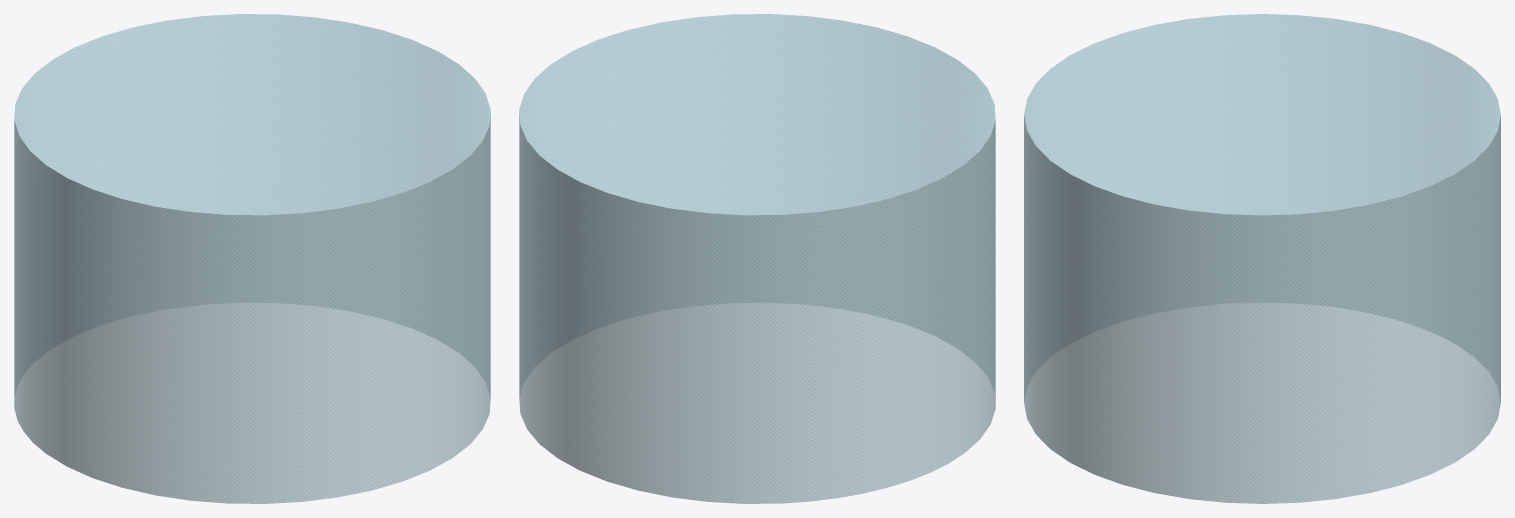
The model's file is body_5.obj.
The picture shows the model from 3 angles, left to right: view 1: azimuth 30°, elevation 25°; view 2: azimuth 150°, elevation 25°; view 3: azimuth 270°, elevation 25°; orthographic projection.
Visible parts, largest first — view 1: mesh4/mesh4-geometry#mesh4-geometry; view 2: mesh4/mesh4-geometry#mesh4-geometry; view 3: mesh4/mesh4-geometry#mesh4-geometry.
Part boxes in pixels (box(x1,y1,x2,y2)): mesh4/mesh4-geometry#mesh4-geometry: box(14, 14, 490, 503); mesh4/mesh4-geometry#mesh4-geometry: box(519, 14, 995, 503); mesh4/mesh4-geometry#mesh4-geometry: box(1024, 14, 1500, 503).
Size of the model in its own units: 0.1486 by 0.0992 by 0.1486.
1 material, 1 textured.
